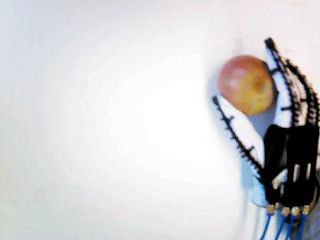apple: (218, 54, 279, 119)
hand: (210, 37, 309, 217)
